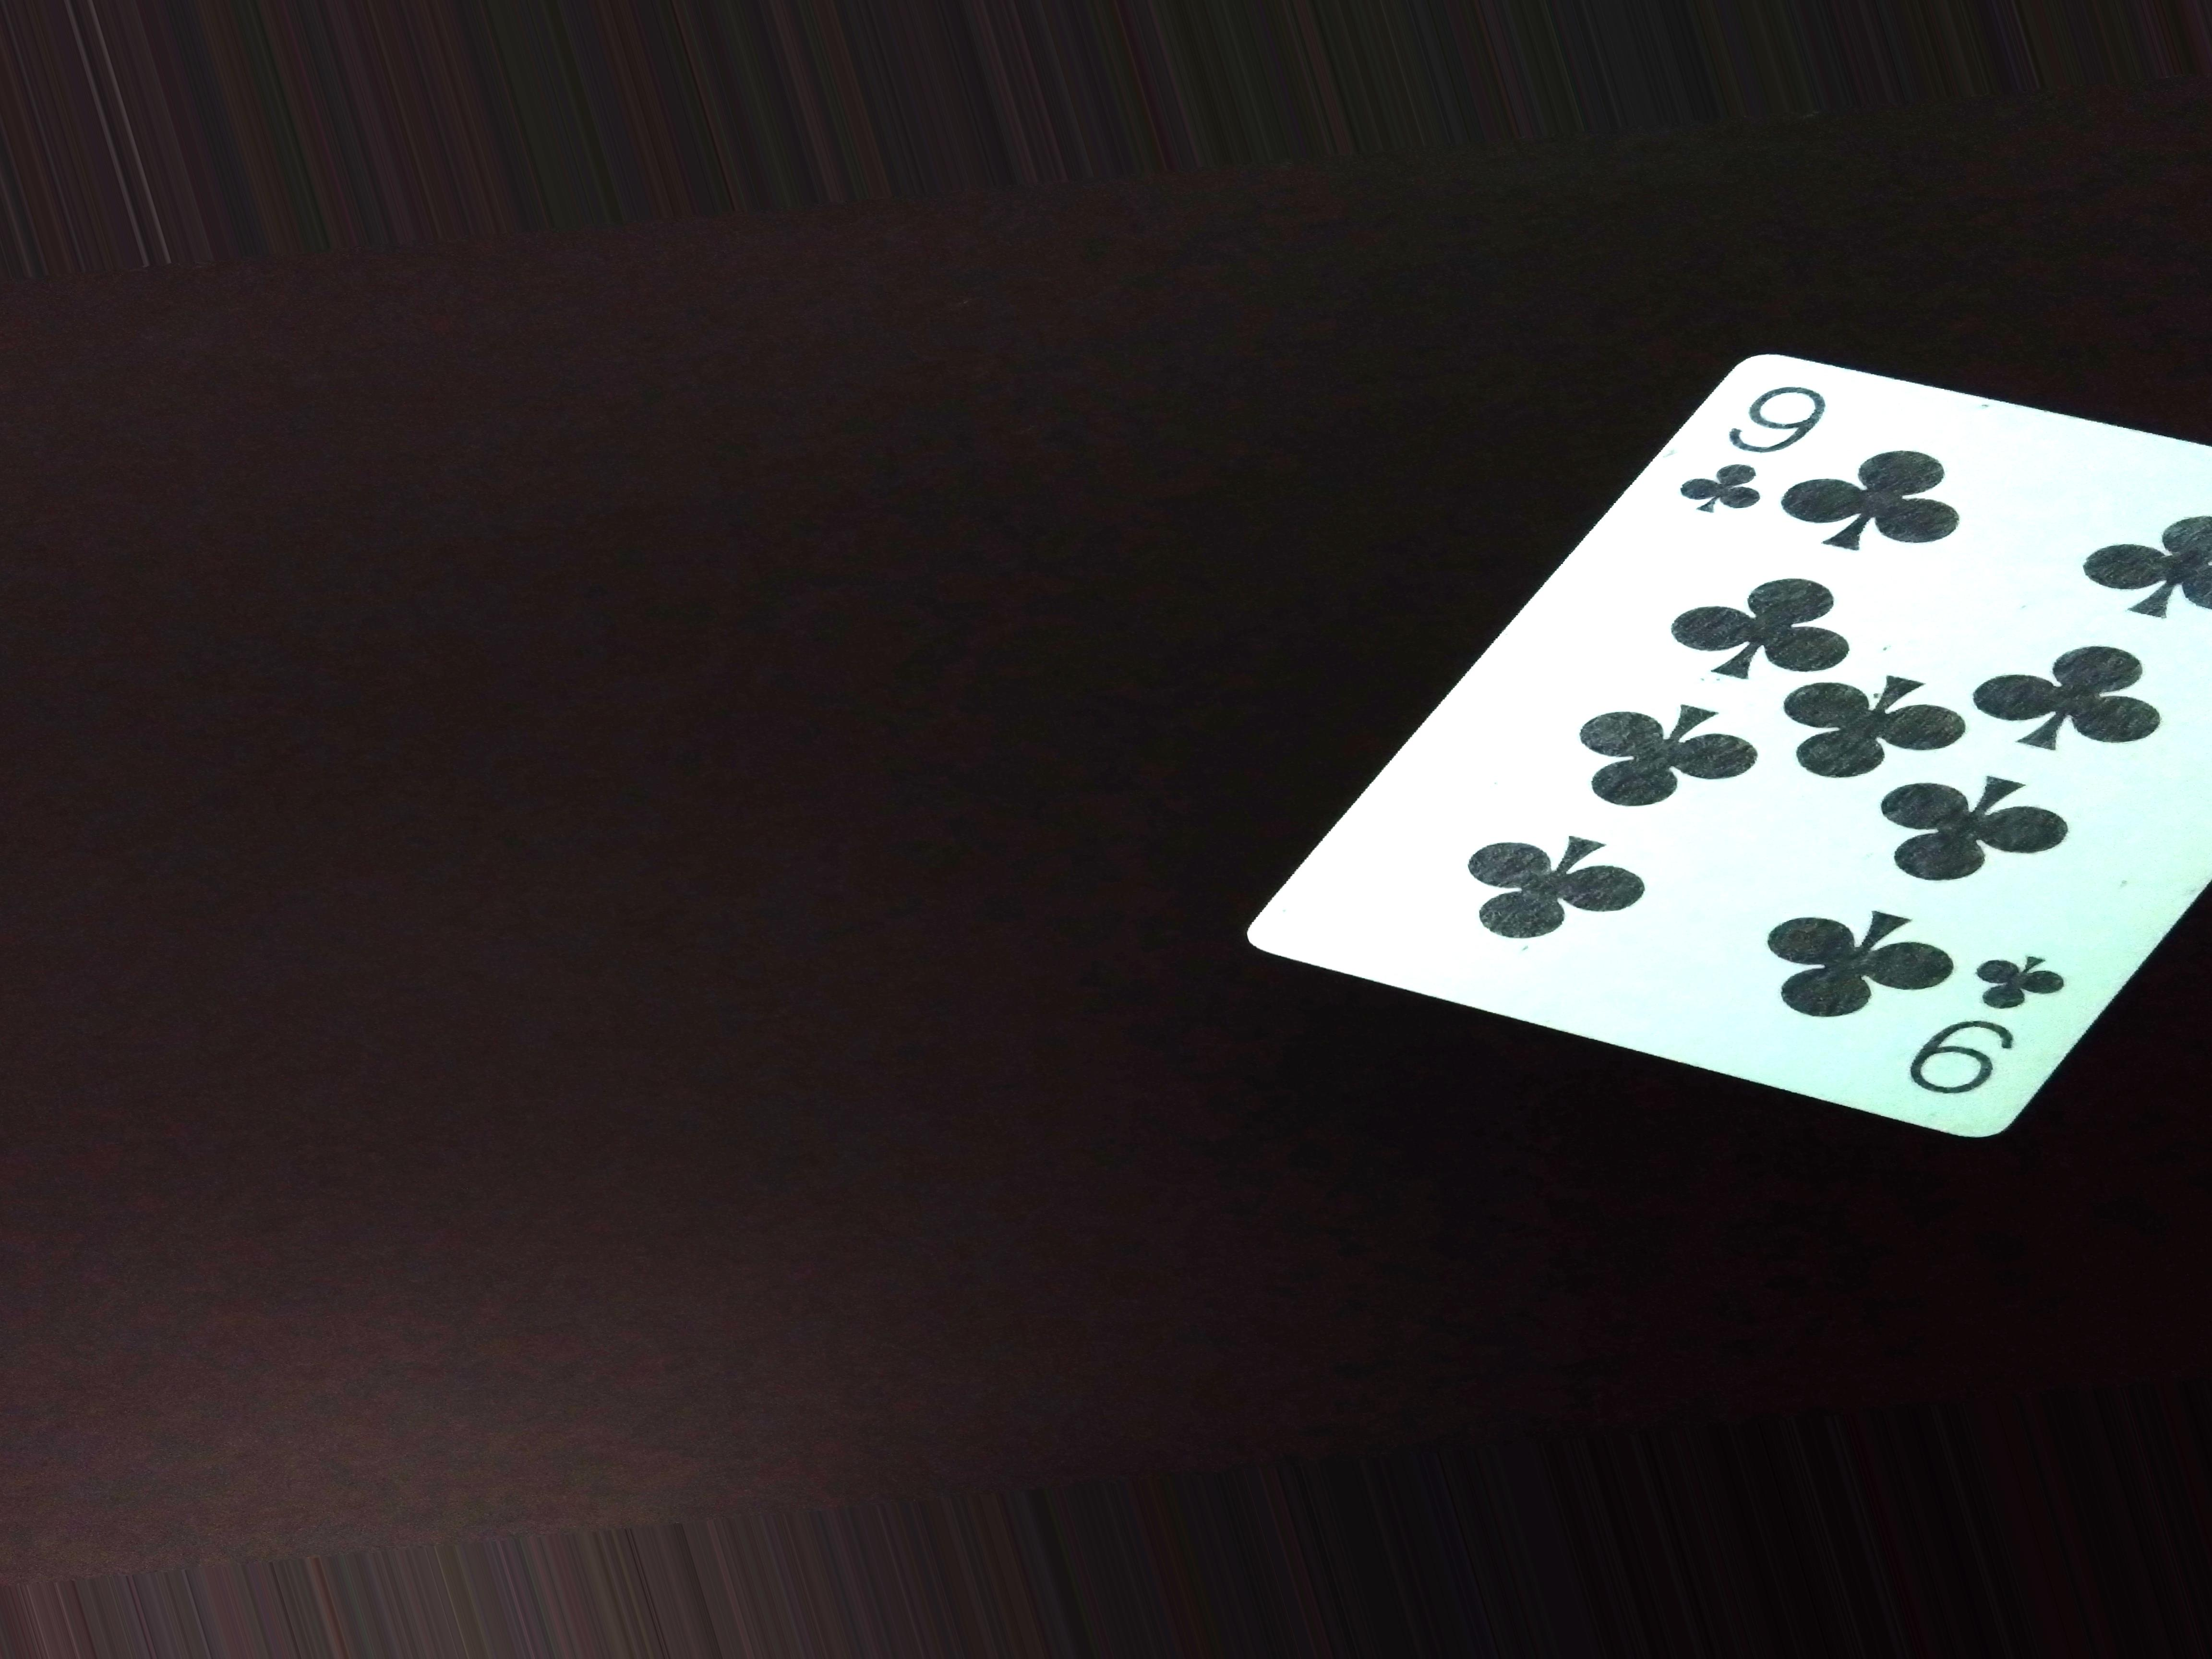9C: (1677, 357, 1841, 532)
